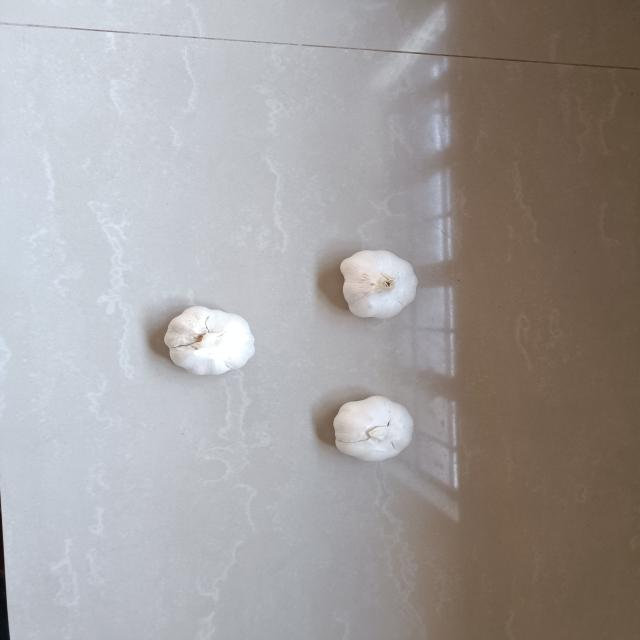garlic: (159, 302, 260, 380), (327, 391, 414, 467), (338, 249, 420, 325)
